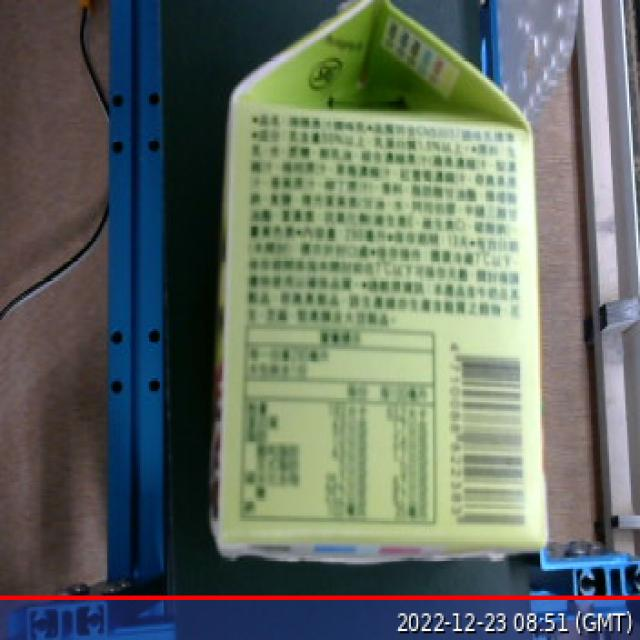non_white_jug: (208, 3, 562, 566)
